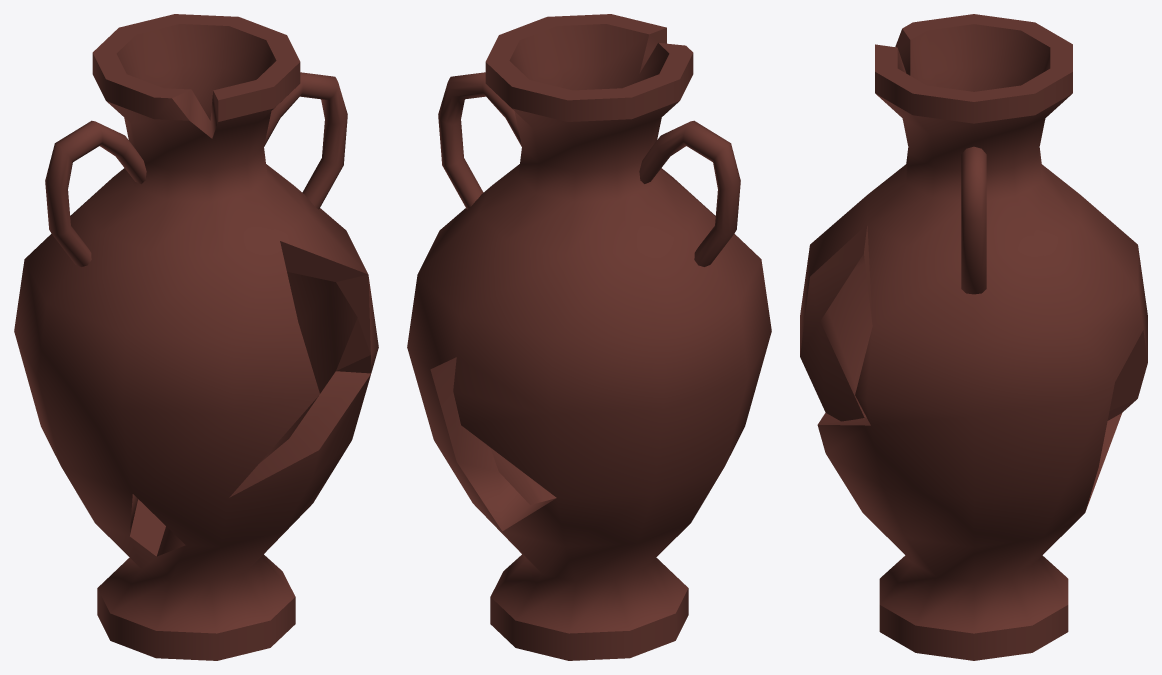
Rendered from PotTallBroken.fbx.
The picture shows the model from 3 angles, left to right: view 1: azimuth 30°, elevation 25°; view 2: azimuth 150°, elevation 25°; view 3: azimuth 270°, elevation 25°; orthographic projection.
Visible parts, largest first — view 1: TallBroken; view 2: TallBroken; view 3: TallBroken.
Part boxes in pixels (bbox=[...]): TallBroken: bbox=[14, 14, 378, 660]; TallBroken: bbox=[407, 14, 771, 660]; TallBroken: bbox=[800, 14, 1147, 660].
Bounding box in the file's own units: 1.38 × 2.33 × 1.31.
